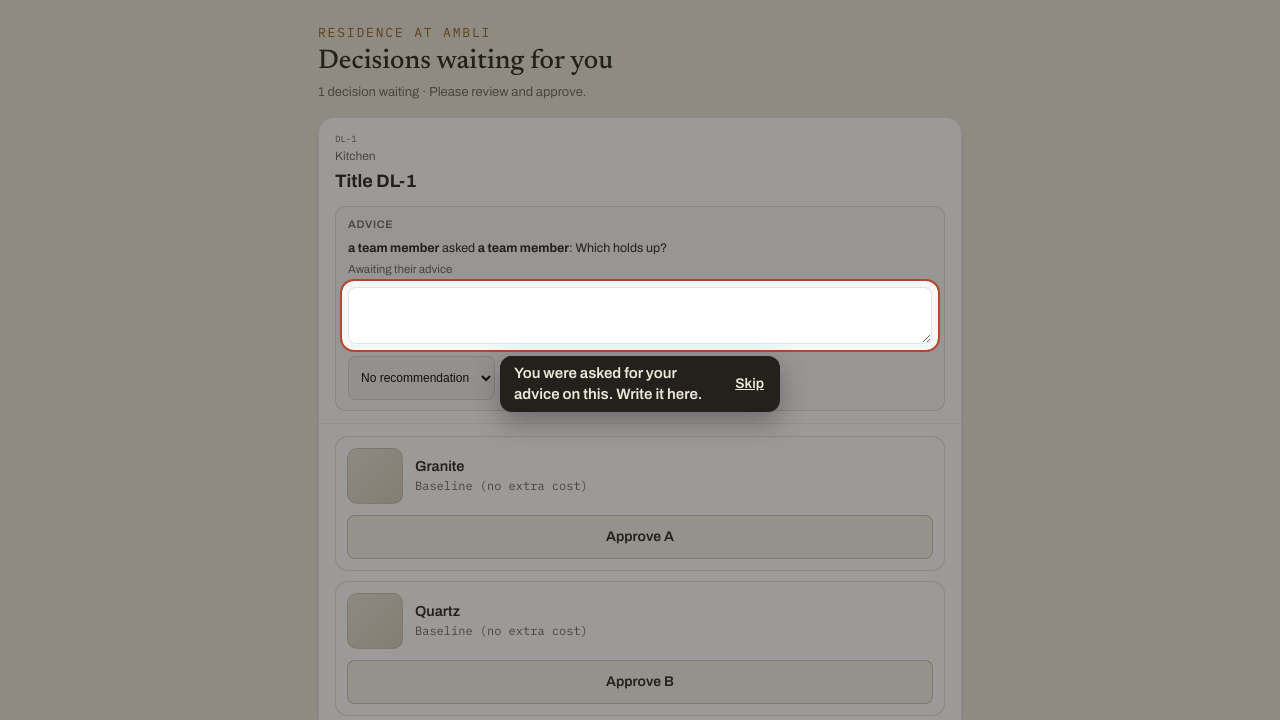
Test case: Codex rounds on #1198 › a client asked for advice is guided on their own Decisions screen, through the same box and Send
The width and height of the screenshot is (1280, 720).
Click the text box named "Your advice" at point(640, 315), box [348,287,932,344]
Wait 400 ms
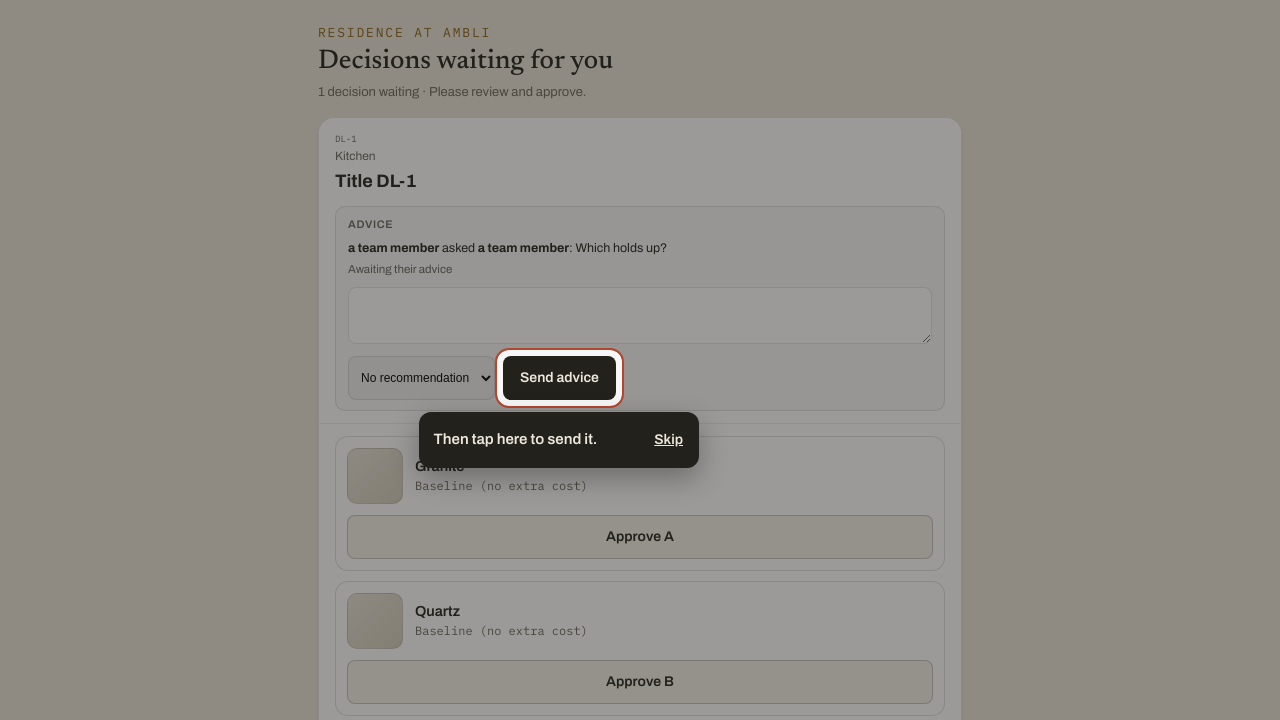
Type "Quartz, please." into the text box named "Your advice" at point(640, 315), box [348,287,932,344]
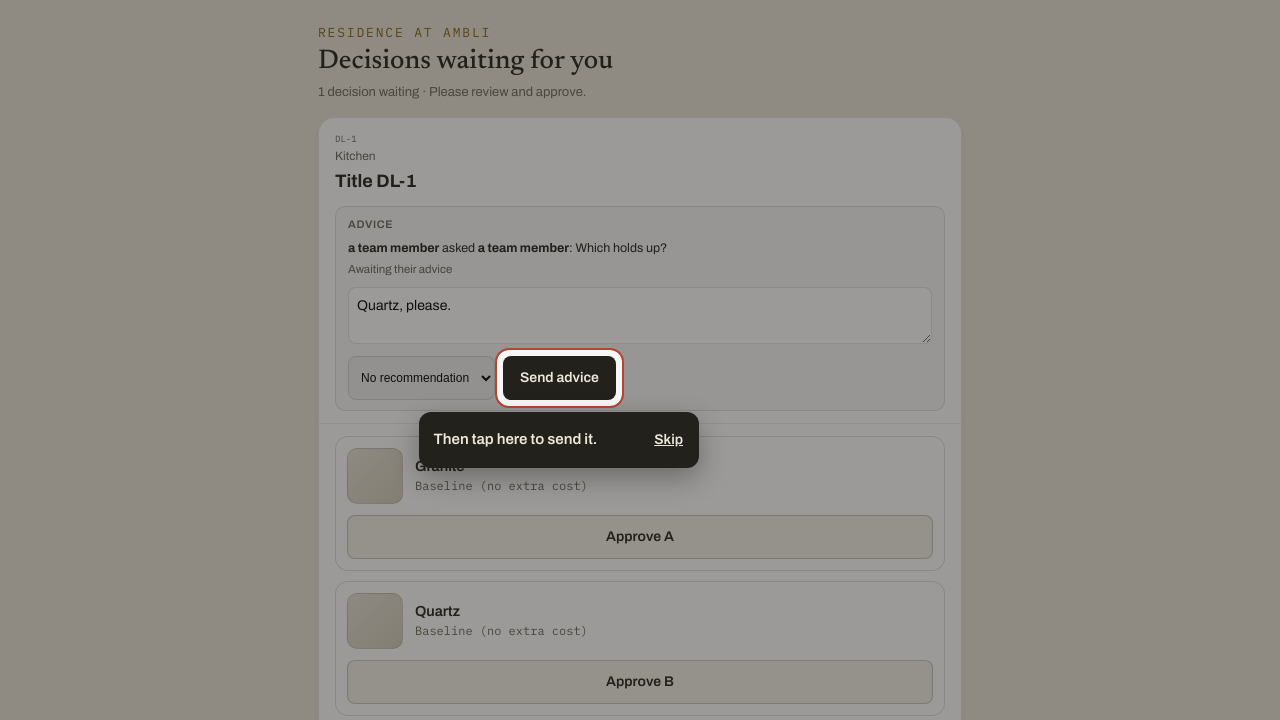
Click the button "Send advice" at point(560, 378), box [503,356,616,400]
Wait 400 ms
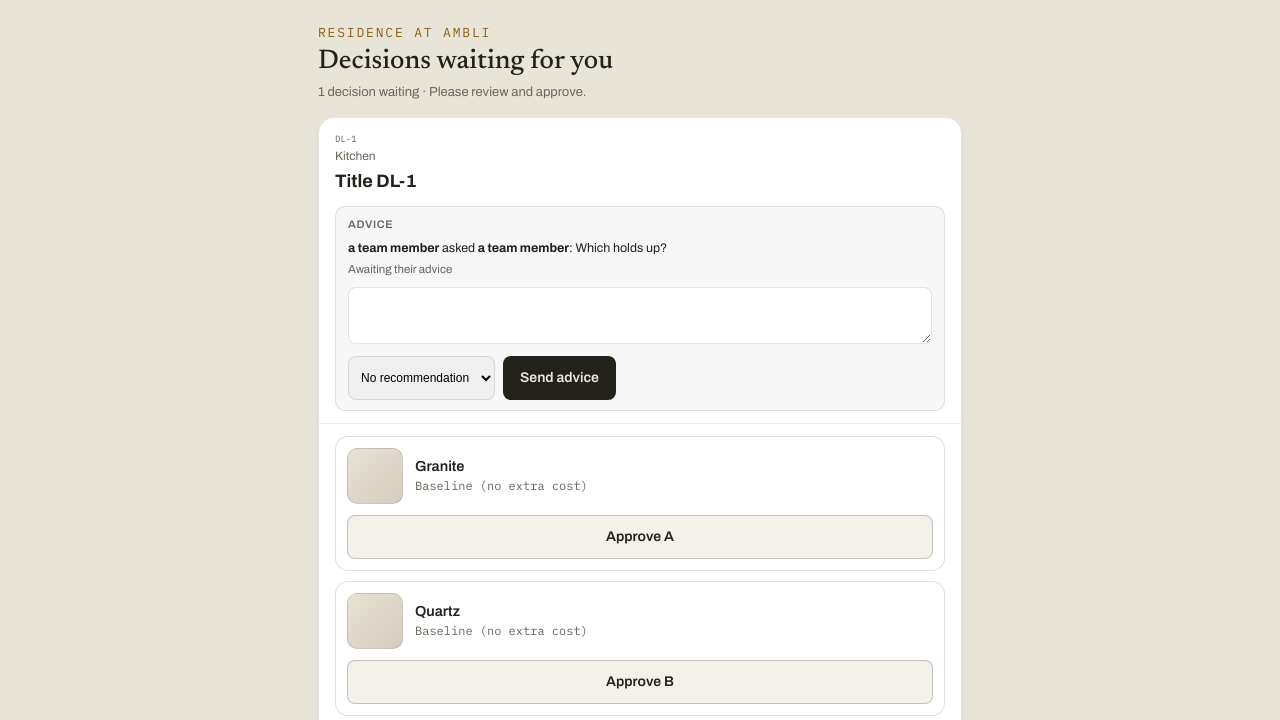
Expected: the message with test id "guide-tip" is gone
